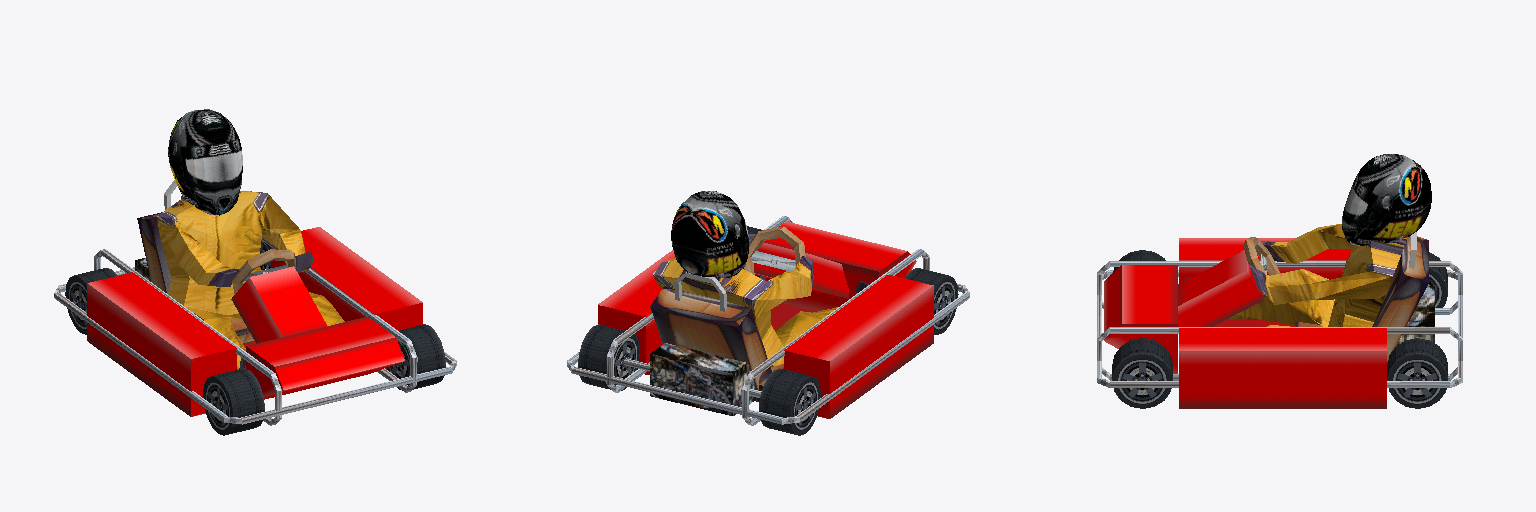
3 views of the same model, side by side, from view 1: azimuth 30°, elevation 25°; view 2: azimuth 150°, elevation 25°; view 3: azimuth 270°, elevation 25° (orthographic).
Visible parts, largest first — view 1: sides, figure, helmet2, wheels, chrome, chair, steering; view 2: sides, wheels, chair, figure, chrome, helmet2, engine, steering, ungrouped; view 3: sides, figure, wheels, helmet2, chrome, chair, engine, steering.
Part boxes in pixels (left/top/right/bottom): sides: left=87, top=227, right=422, bottom=416; figure: left=156, top=191, right=344, bottom=369; helmet2: left=168, top=109, right=242, bottom=215; wheels: left=65, top=240, right=445, bottom=435; chrome: left=54, top=237, right=456, bottom=425; chair: left=137, top=212, right=254, bottom=343; steering: left=232, top=249, right=295, bottom=293; sides: left=598, top=222, right=933, bottom=418; wheels: left=578, top=226, right=958, bottom=435; chair: left=650, top=287, right=783, bottom=400; figure: left=653, top=234, right=868, bottom=366; chrome: left=567, top=216, right=969, bottom=425; helmet2: left=671, top=191, right=748, bottom=277; engine: left=650, top=343, right=756, bottom=415; steering: left=744, top=226, right=805, bottom=274; ungrouped: left=674, top=272, right=726, bottom=311; sides: left=1104, top=238, right=1386, bottom=408; figure: left=1183, top=224, right=1406, bottom=326; wheels: left=1112, top=250, right=1447, bottom=408; helmet2: left=1342, top=154, right=1431, bottom=245; chrome: left=1097, top=261, right=1462, bottom=387; chair: left=1295, top=236, right=1428, bottom=362; engine: left=1387, top=286, right=1434, bottom=363; steering: left=1243, top=237, right=1280, bottom=275.
Bounding box in the file's own units: 1.25 × 1.04 × 1.7.
1 materials, 1 textured.